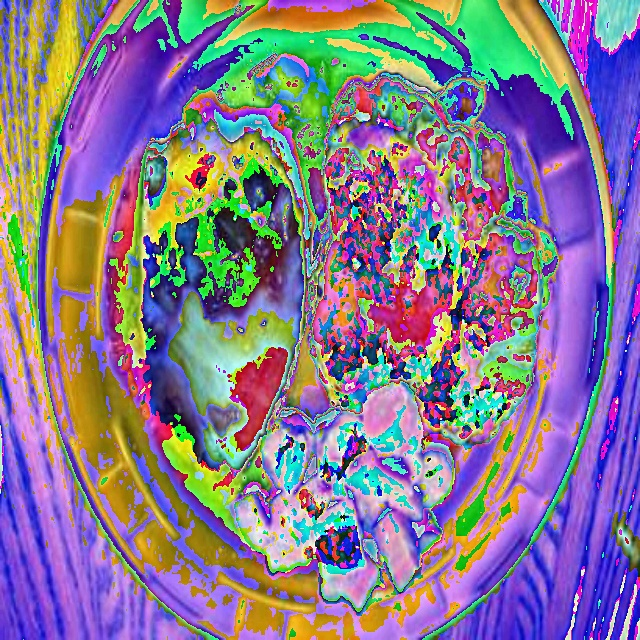background: (119, 73, 558, 611)
